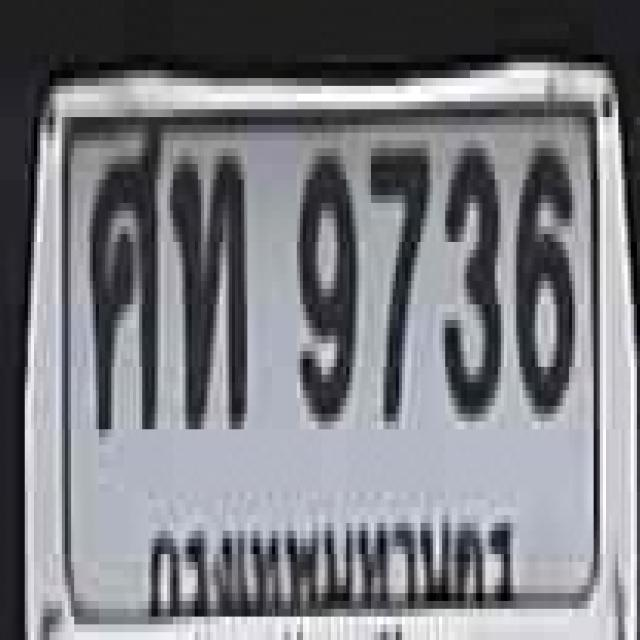-: (86, 121, 160, 425), (170, 148, 244, 422)
3: (439, 140, 498, 414)
6: (513, 140, 572, 406)
7: (368, 140, 427, 414)
9: (297, 148, 352, 414)
BKK: (138, 500, 522, 640)
